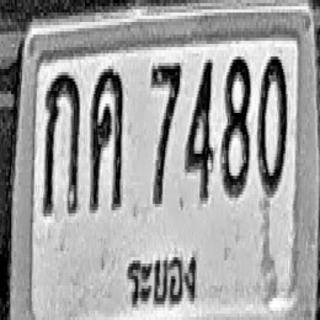A01: (42, 71, 80, 215)
A04: (90, 66, 123, 210)
N00: (257, 53, 287, 195)
N04: (185, 57, 213, 201)
N07: (150, 61, 181, 205)
N08: (221, 53, 250, 198)
P53: (123, 245, 203, 320)
